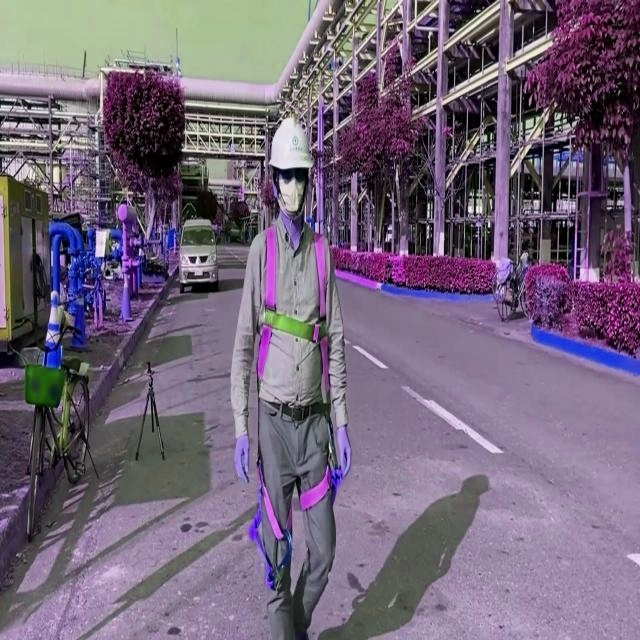safety belt: (232, 236, 349, 533)
